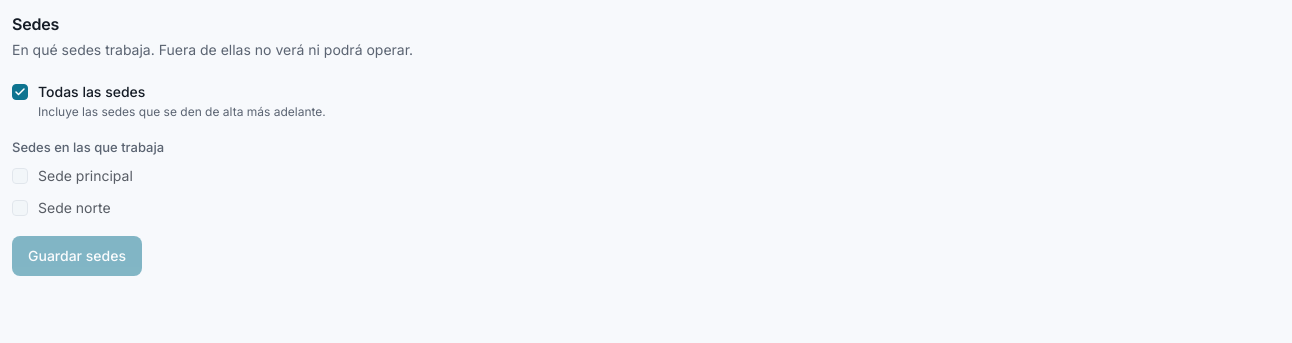
Test case: StaffLocationsCard (DX-089) › el error de la API (400/409) se queda en línea con su mensaje
Step 1. Click the checkbox labelled "Todas las sedes" → (20,92), box [12, 84, 28, 100]
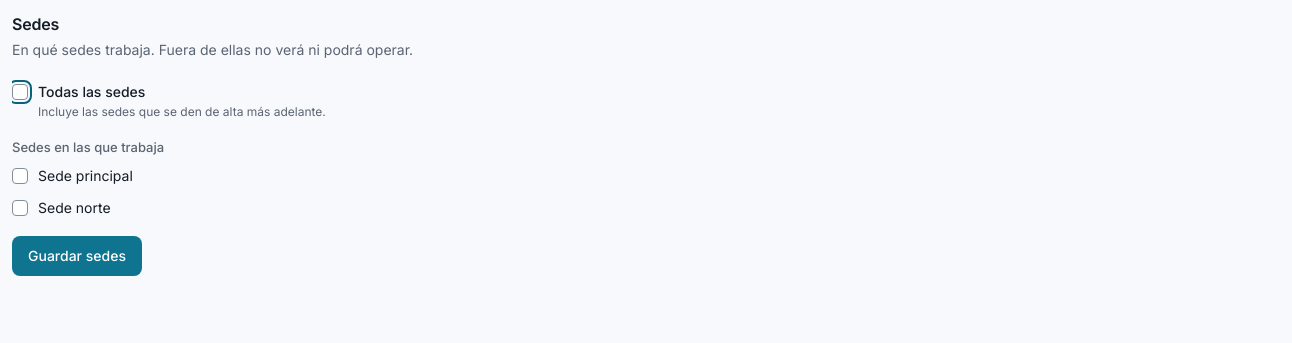
Step 2. Click the checkbox labelled "Sede principal" → (20,176), box [12, 168, 28, 184]
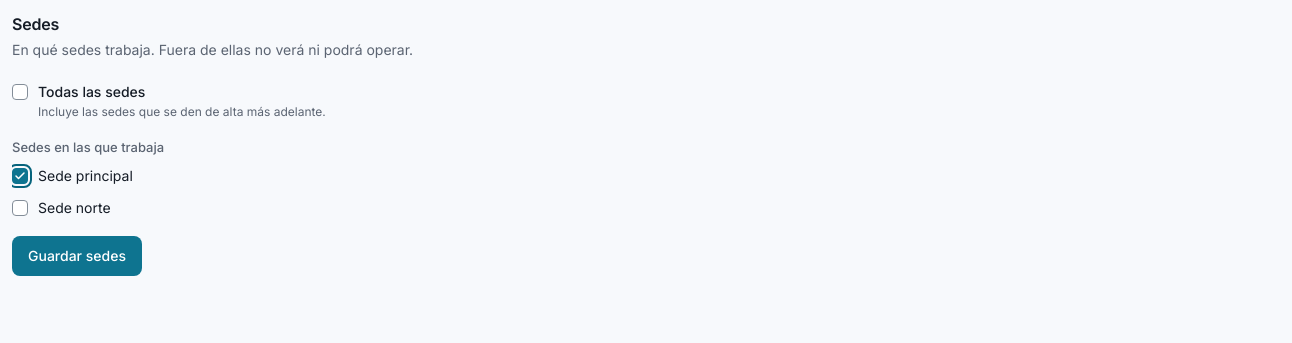
Step 3. Click the button "Guardar sedes" → (77,256), box [12, 236, 142, 276]
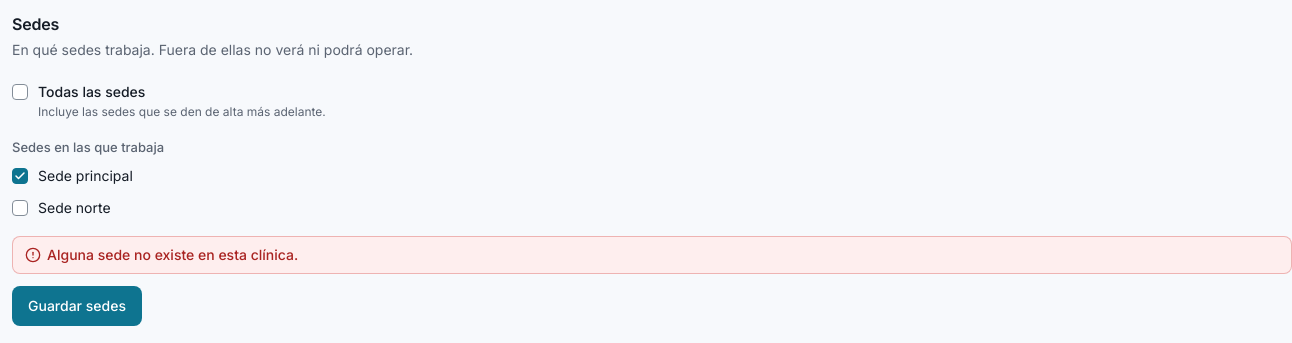
Check: the message reads "Alguna sede no existe en esta clínica.", box [47, 246, 298, 263]
